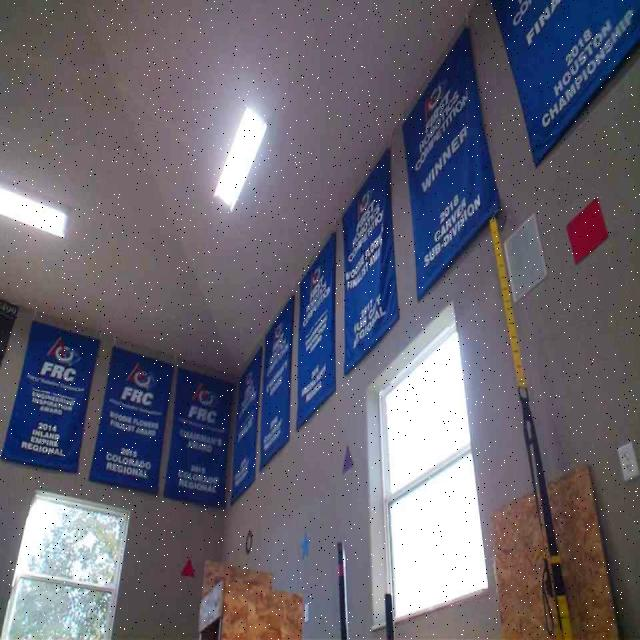ring_black: (244, 529, 254, 554)
square_red: (565, 195, 610, 261)
star_blue: (298, 532, 310, 560)
triangle_purple: (341, 445, 353, 474)
triangle_red: (179, 556, 195, 578)
